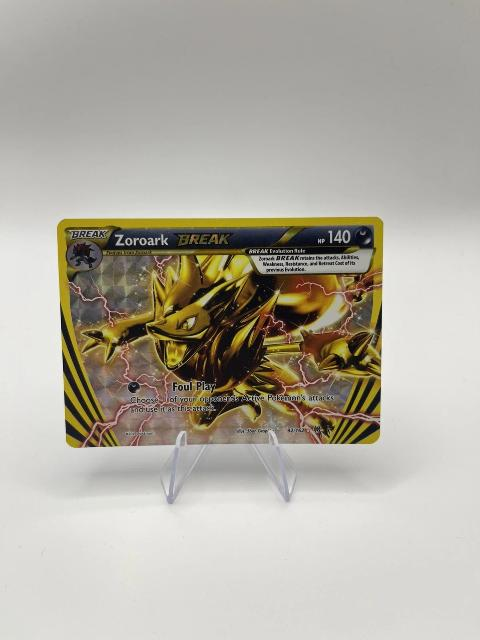Card: (53, 215, 386, 451)
Name: (108, 229, 233, 251)
